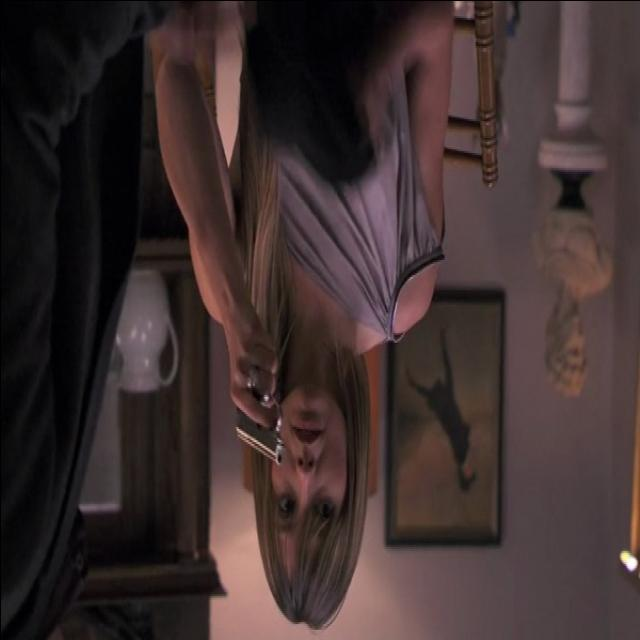weapons: (220, 333, 296, 502)
